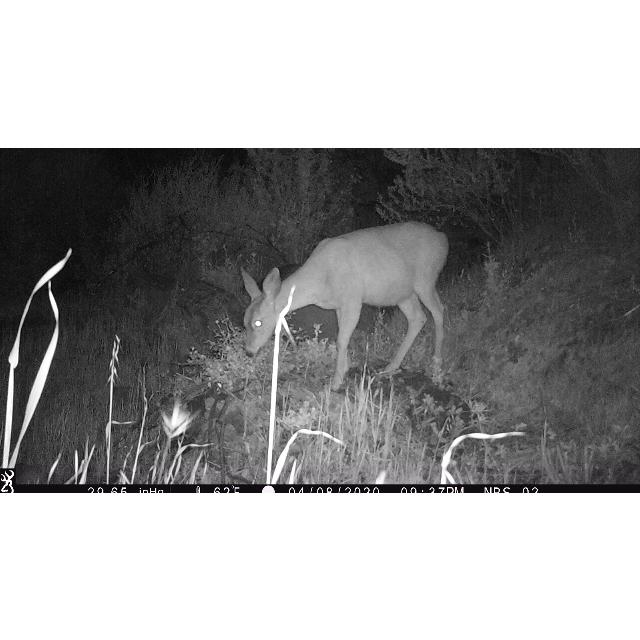animals: (238, 218, 450, 392)
